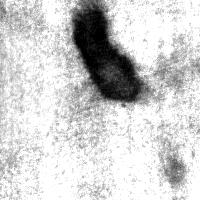patches: (0, 21, 75, 159), (70, 4, 143, 102)
